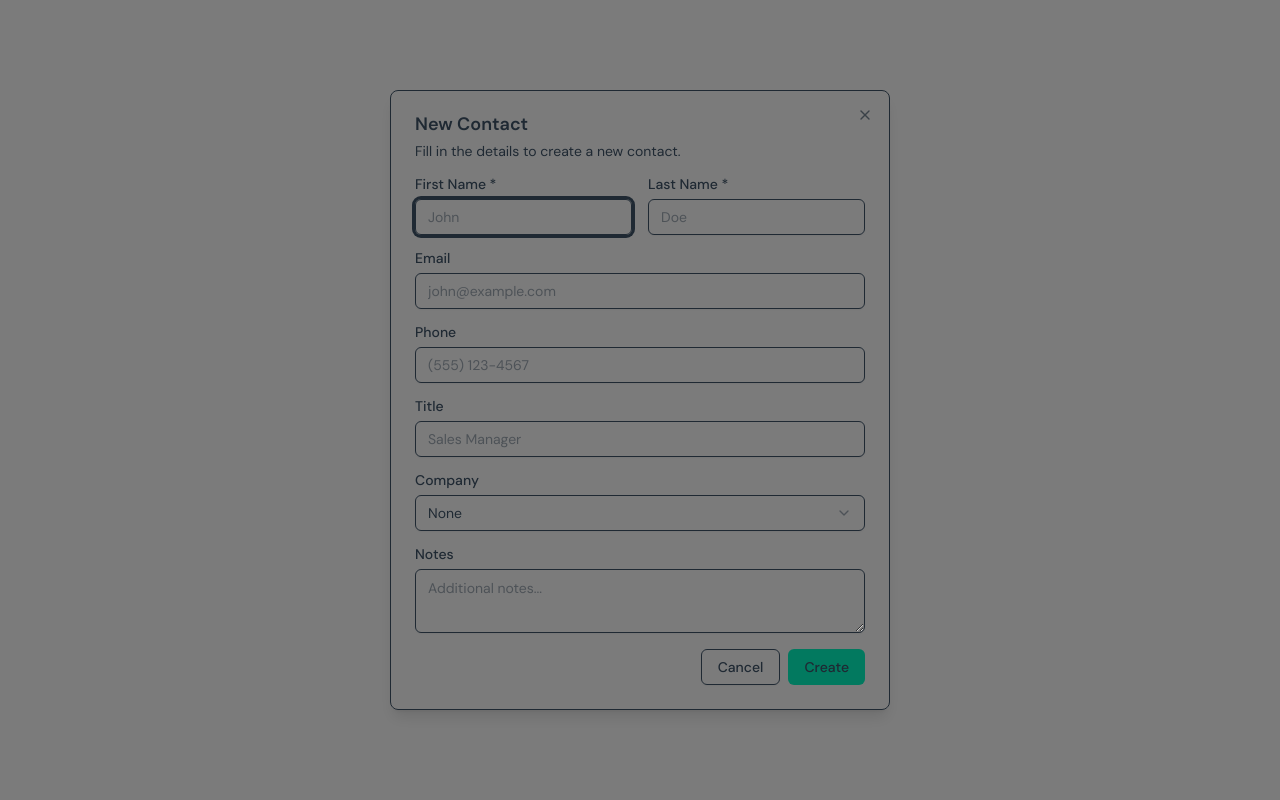
Test: ContactFormDialog › disables the submit button and shows a spinner while saving
Expected: the heading "New Contact" is shown, 415,112 -> 528,136
Type "Bob" into the field labelled "First Name *" at coordinates (524, 217), box 415,199 -> 632,235
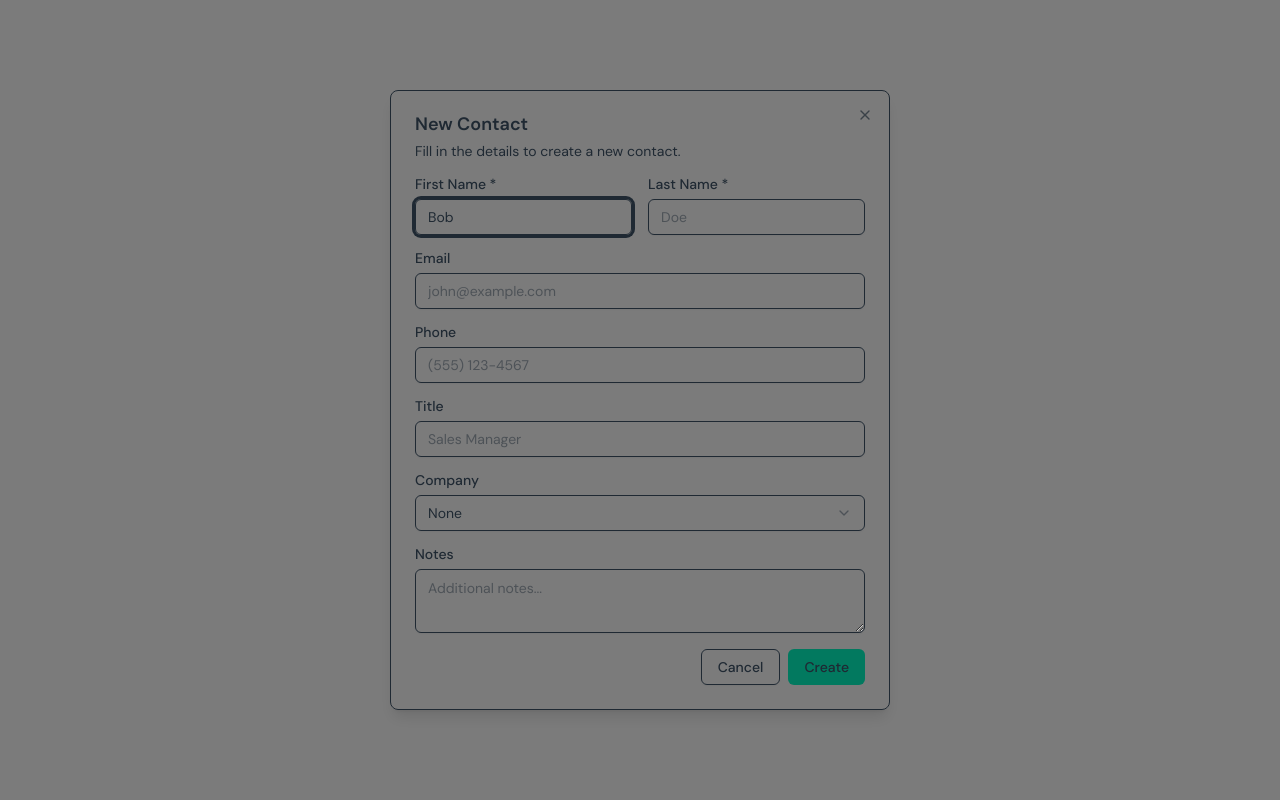
Type "Builder" into the field labelled "Last Name *" at coordinates (756, 217), box 648,199 -> 865,235
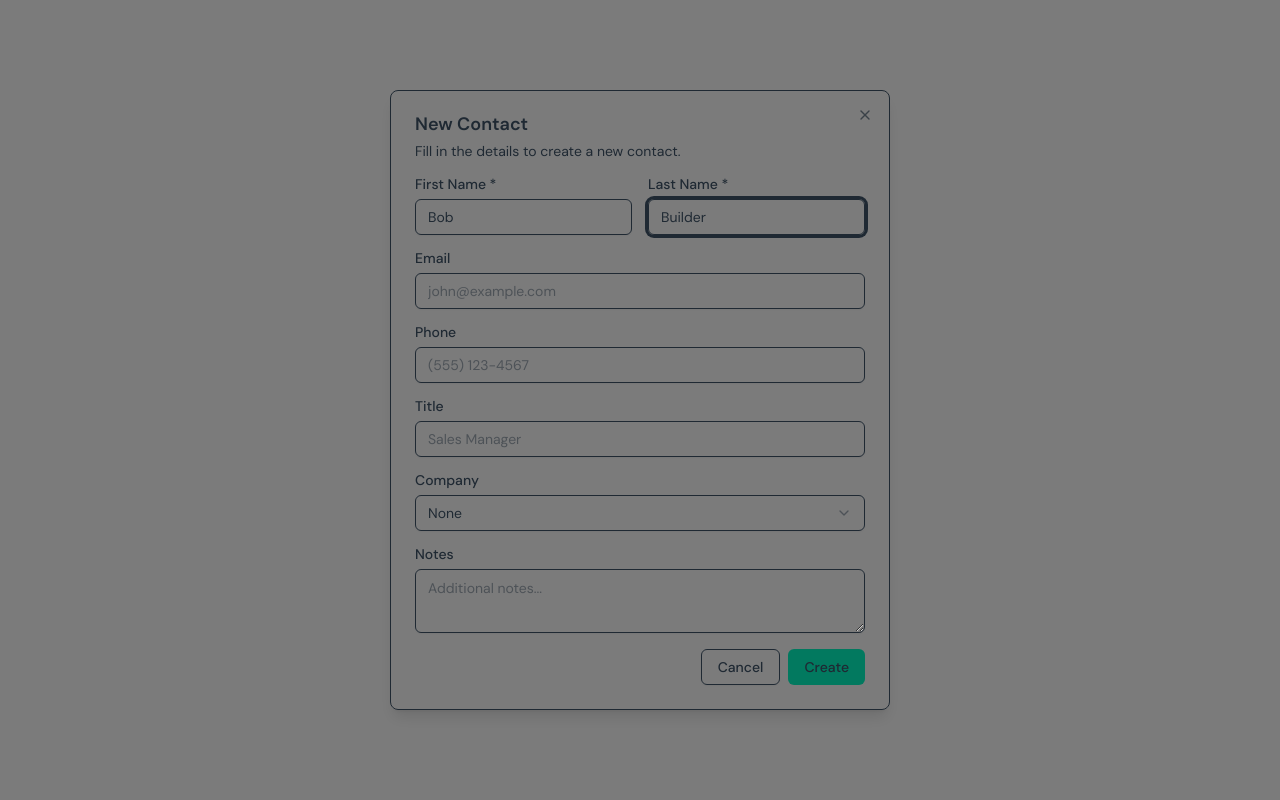
Click the button "Create" at coordinates (827, 667), box 788,649 -> 865,685
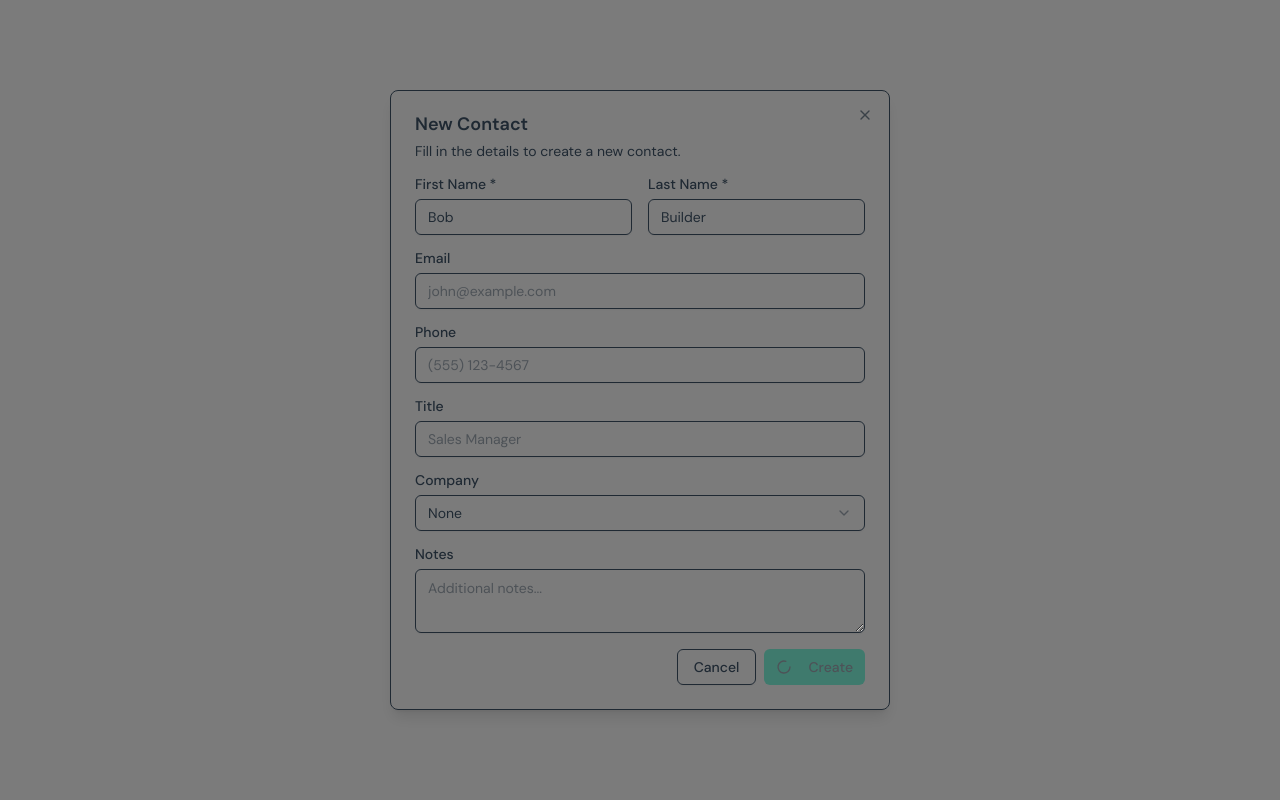
Result: the button "Create" is disabled at 764,649 -> 865,685
Result: the icon with class "animate-spin" is shown at 776,659 -> 792,675
